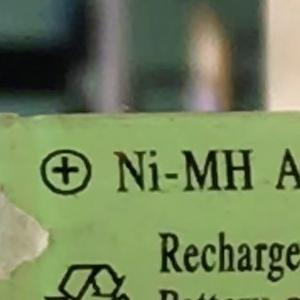keyword: (104, 140, 258, 202)
